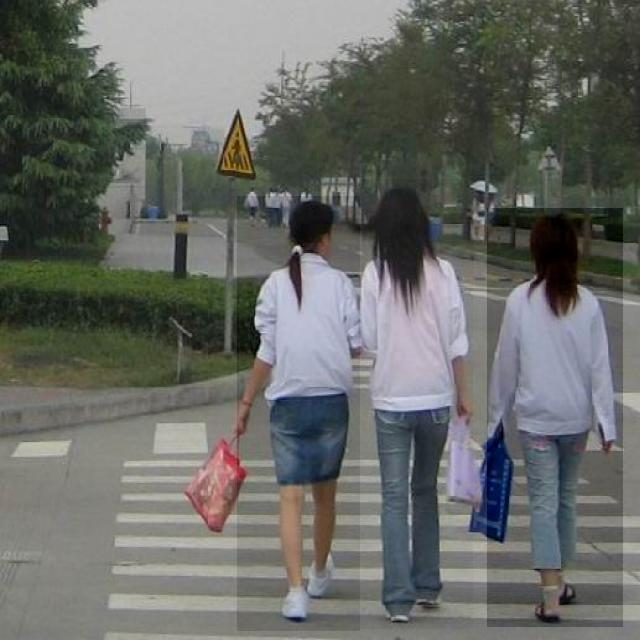with scooter: (488, 208, 624, 627), (237, 196, 360, 631), (356, 179, 473, 629)
